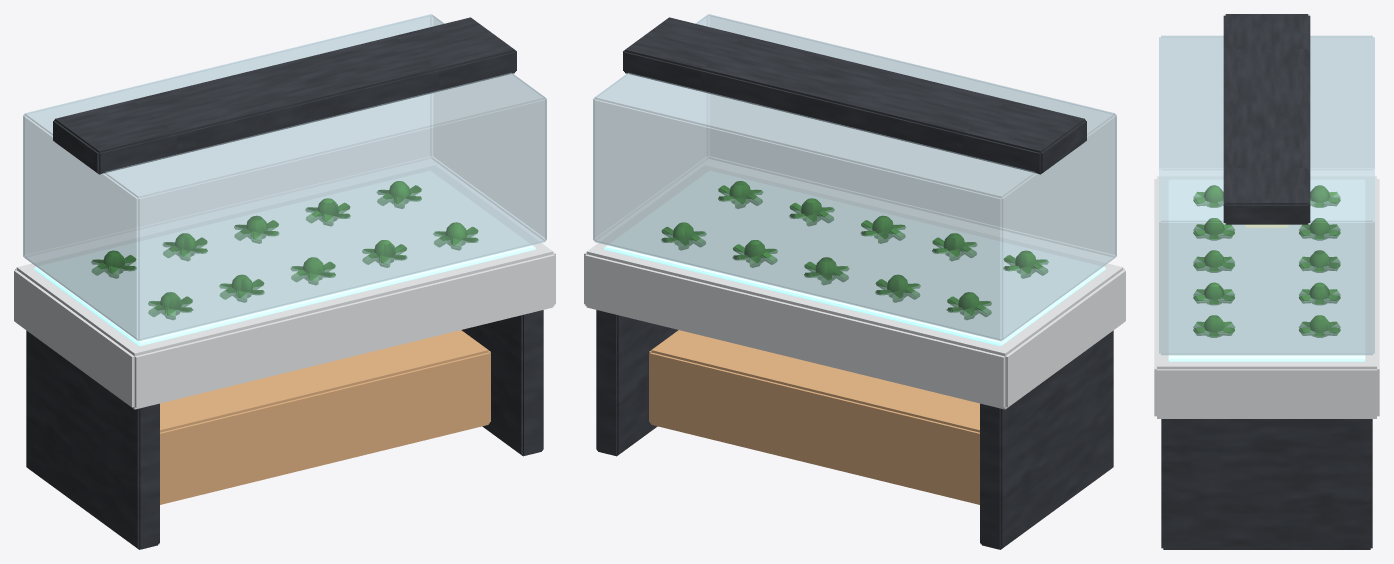
The model's file is fac_hydroponics.glb.
3 views of the same model, side by side, from view 1: azimuth 30°, elevation 25°; view 2: azimuth 150°, elevation 25°; view 3: azimuth 270°, elevation 25° (orthographic). The views are drawn at different scales.
Parts seen in each view (by area): view 1: fac_hydroponics; view 2: fac_hydroponics; view 3: fac_hydroponics.
Boxes of the visible parts, x1=… form: fac_hydroponics: x1=14, y1=14, x2=555, y2=549; fac_hydroponics: x1=584, y1=14, x2=1125, y2=549; fac_hydroponics: x1=1154, y1=14, x2=1379, y2=549.
Size of the model in its own units: 1.9 by 1.61 by 0.94.
Materials: 8 (3 with a texture image).
